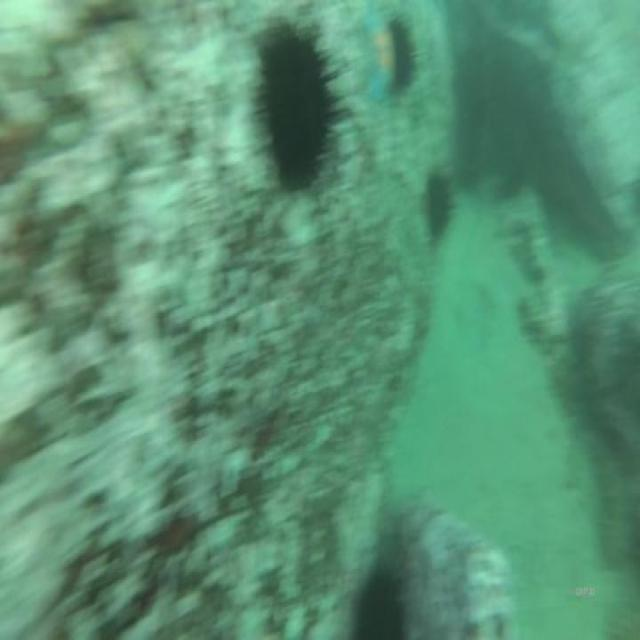echinus: (255, 21, 343, 198), (355, 559, 408, 640), (392, 16, 421, 103), (423, 169, 455, 247)
starfish: (360, 3, 398, 109)
